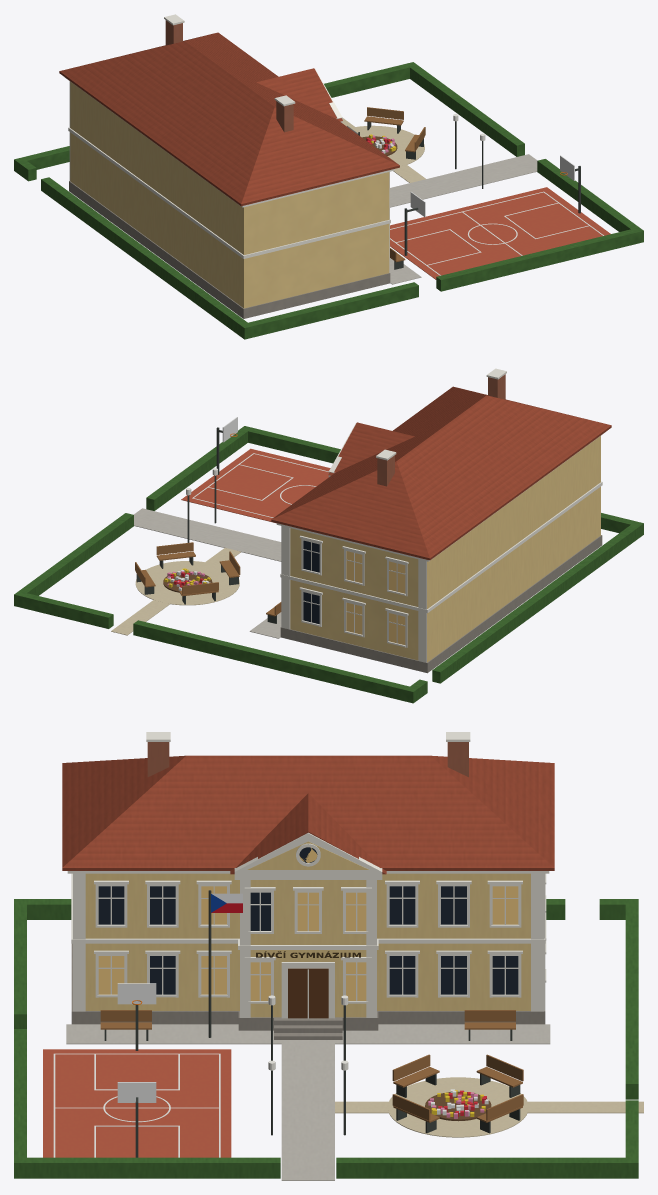
File: gymnazium.glb
3 views of the same model, one above another, from view 1: azimuth 30°, elevation 25°; view 2: azimuth 150°, elevation 25°; view 3: azimuth 270°, elevation 25° (orthographic). The views are drawn at different scales.
Parts seen in each view (by area): view 1: dum; view 2: dum, noc; view 3: dum, noc.
Boxes of the visible parts, x1,y1,x2,y2 form: dum: (14, 14, 643, 339); dum: (14, 368, 643, 703); noc: (186, 468, 405, 644); dum: (14, 732, 643, 1180); noc: (98, 847, 518, 1070).
Bounding box in the file's own units: 29.35 × 12.37 × 29.35.
1 material, 1 textured.
